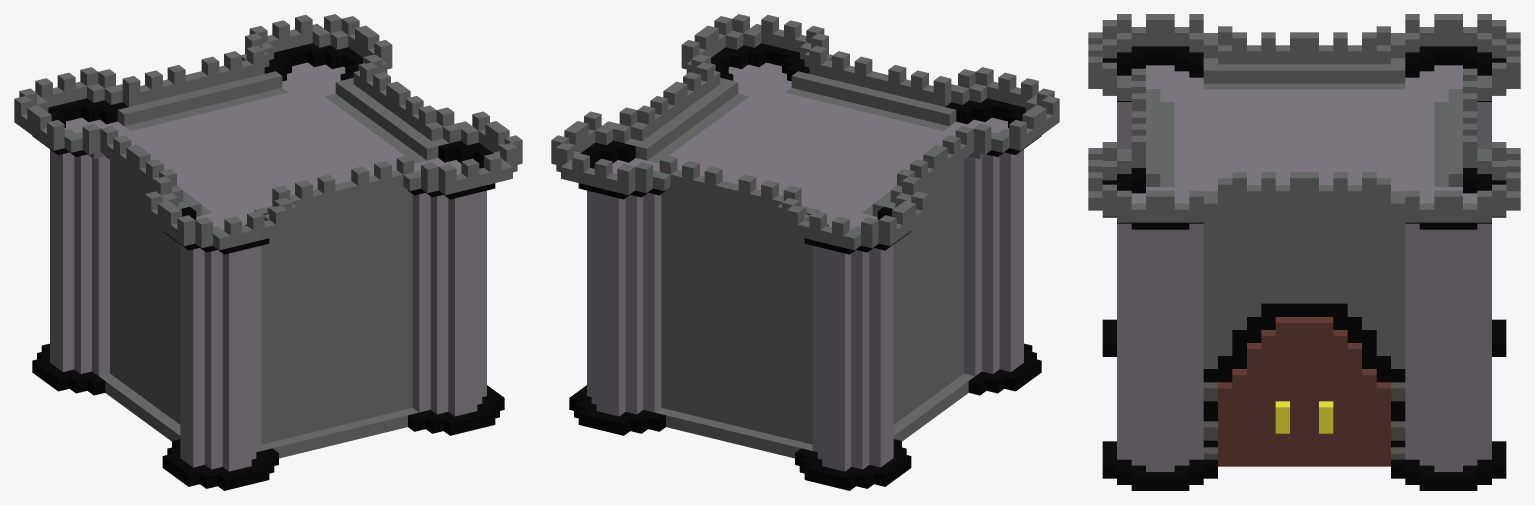
File: Castle.gltf
The picture shows the model from 3 angles, left to right: view 1: azimuth 30°, elevation 25°; view 2: azimuth 150°, elevation 25°; view 3: azimuth 270°, elevation 25°; orthographic projection. The views are drawn at different scales.
Parts seen in each view (by area): view 1: Layer.1; view 2: Layer.1; view 3: Layer.1.
Part boxes in pixels (box(x1,y1,x2,y2)): Layer.1: box(14, 14, 522, 490); Layer.1: box(551, 14, 1059, 490); Layer.1: box(1088, 14, 1520, 490).
Bounding box in the file's own units: 30 × 23 × 30.
Materials: 1 (1 with a texture image).
